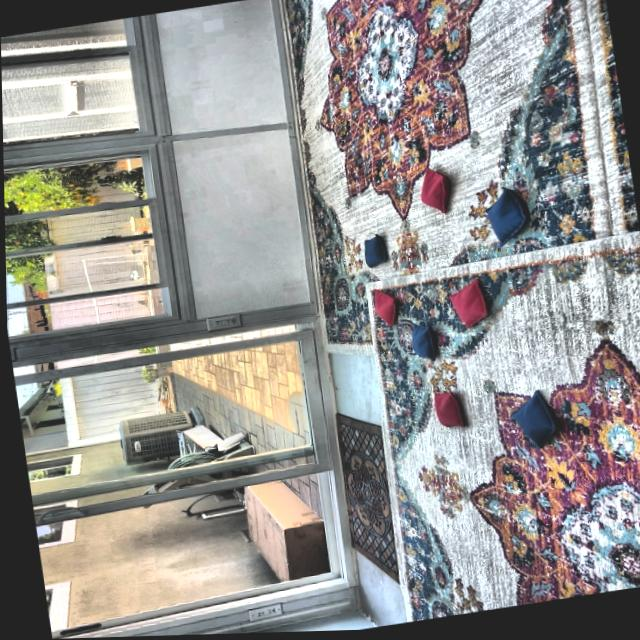blue-bean-bag: (502, 390, 558, 456), (477, 187, 531, 253), (406, 323, 438, 367), (358, 234, 386, 271)
red-bean-bag: (442, 279, 489, 334), (413, 166, 451, 220), (428, 391, 465, 434), (368, 289, 398, 332)
